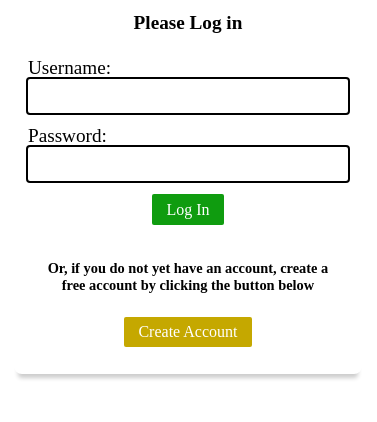
Test: UI/DOM Testing... › The log in error... › Should be present in the document if a log in attempt has failed
Click the button with aria-label "log-in-button". click: click(188, 210)
box: [152,194,224,225]
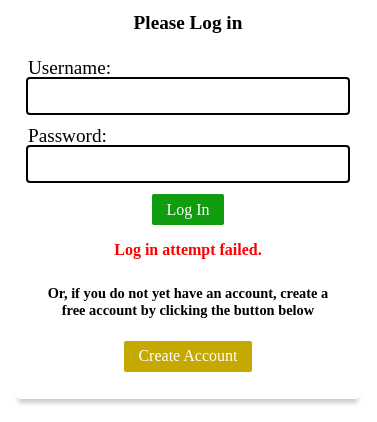
Expected: the heading named "log-in-error" is shown, [114,241,262,258]
